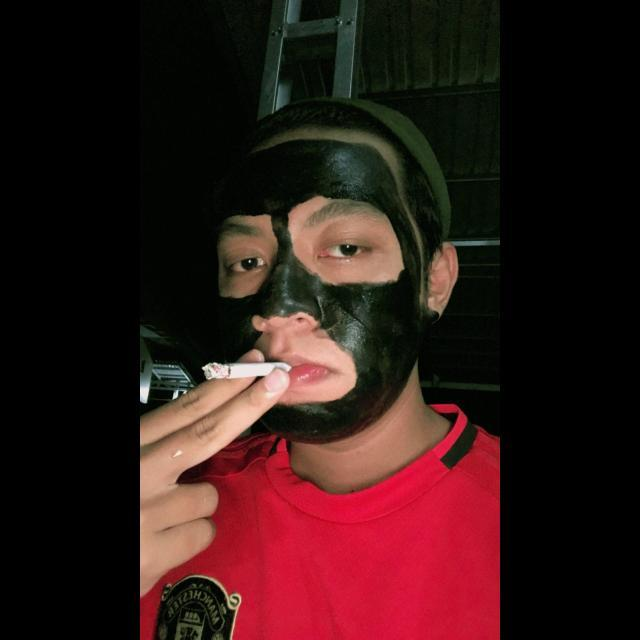rokok: (201, 357, 307, 391)
